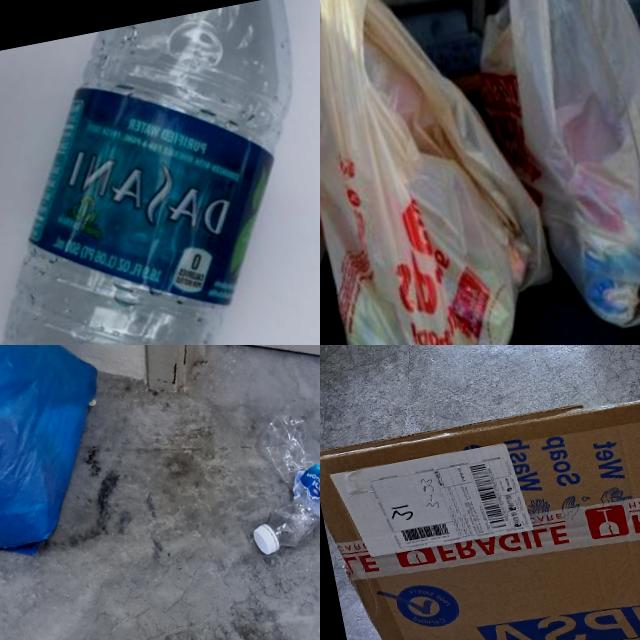garrafa plástica: (0, 0, 320, 345), (247, 409, 320, 555)
papelão: (320, 361, 640, 640)
sacola plástica: (320, 0, 572, 345), (462, 0, 640, 345), (0, 345, 130, 578)
tampa plástica: (250, 522, 280, 556)
